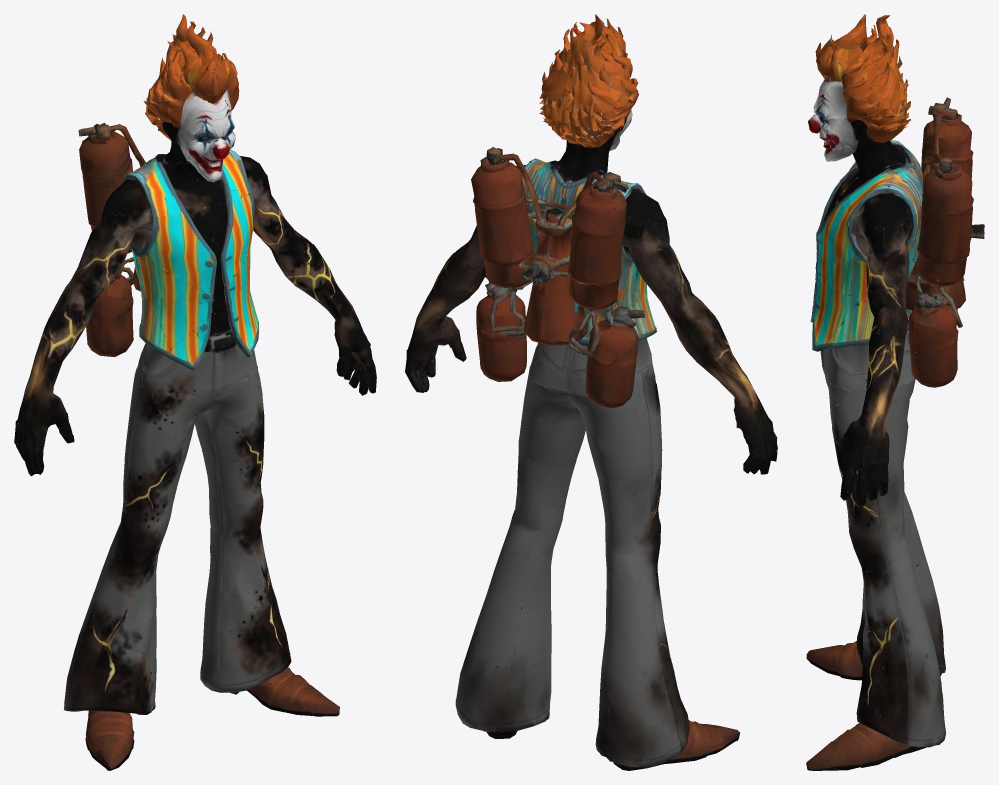
The model's file is 15_fire_eater_clown.glb.
3 renders of one model, left to right at view 1: azimuth 30°, elevation 25°; view 2: azimuth 150°, elevation 25°; view 3: azimuth 270°, elevation 25°, orthographic. The views are drawn at different scales.
Parts seen in each view (by area): view 1: mesh_node; view 2: mesh_node; view 3: mesh_node.
Boxes of the visible parts, x1,y1,x2,y2 form: mesh_node: [14, 14, 376, 770]; mesh_node: [405, 14, 777, 770]; mesh_node: [806, 14, 984, 770].
Bounding box in the file's own units: 0.993 × 1.9 × 0.4404.
1 material, 1 textured.
